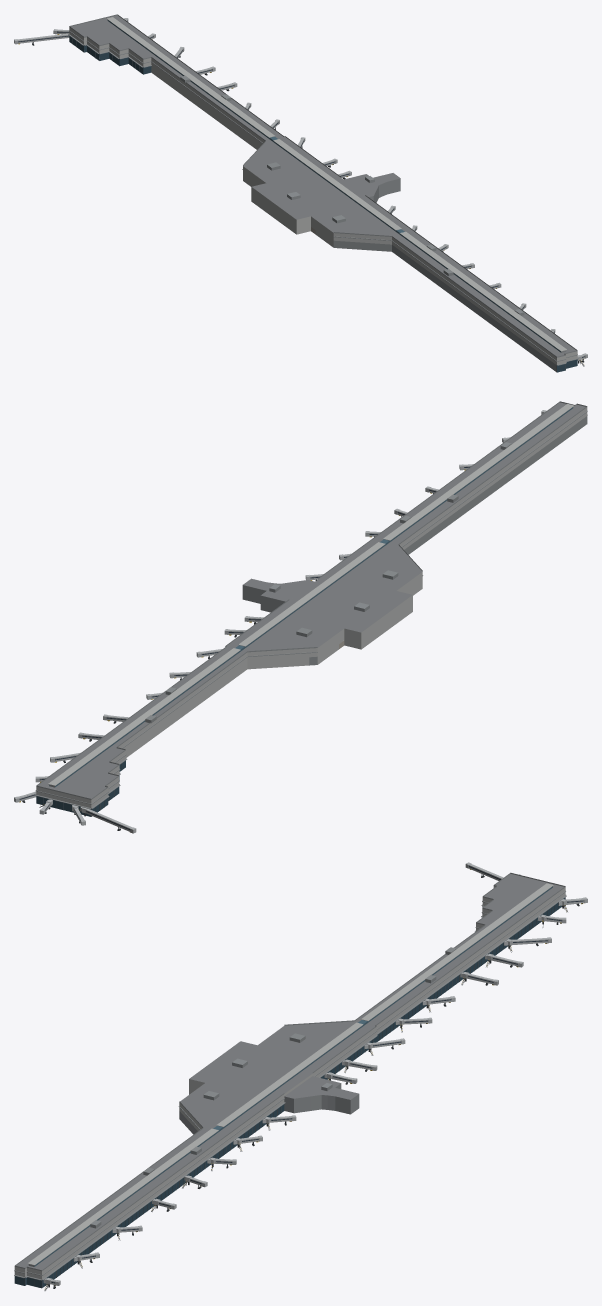
File: atl-concourse-t.glb
3 views of the same model, one above another, from view 1: azimuth 30°, elevation 25°; view 2: azimuth 150°, elevation 25°; view 3: azimuth 330°, elevation 25° (orthographic). The views are drawn at different scales.
Parts seen in each view (by area): view 1: lod1_lm_stone, lod0_bld_wall, lod2_bld_wall, lod0_lm_metal, lod2_lm_stone, lod0_lm_stone, lod0_bld_glass, lod0_bld_roof; view 2: lod1_lm_stone, lod2_bld_wall, lod0_bld_wall, lod0_lm_metal, lod2_lm_stone, lod0_lm_stone, lod0_bld_roof; view 3: lod1_lm_stone, lod2_bld_wall, lod0_lm_metal, lod0_bld_glass, lod2_lm_stone, lod0_lm_stone, lod0_bld_roof, lod0_bld_wall, lod0_lm_glass.
Part boxes in pixels (x1,y1,x2,y2): lod1_lm_stone: (14, 14, 587, 365); lod0_bld_wall: (69, 27, 577, 371); lod2_bld_wall: (84, 37, 577, 363); lod0_lm_metal: (16, 19, 587, 372); lod2_lm_stone: (18, 19, 584, 359); lod0_lm_stone: (69, 15, 579, 363); lod0_bld_glass: (69, 36, 577, 372); lod0_bld_roof: (343, 173, 400, 196); lod1_lm_stone: (14, 401, 587, 833); lod2_bld_wall: (36, 572, 422, 807); lod0_bld_wall: (36, 407, 587, 807); lod0_lm_metal: (15, 405, 587, 833); lod2_lm_stone: (17, 437, 510, 831); lod0_lm_stone: (36, 401, 586, 814); lod0_bld_roof: (243, 578, 314, 601); lod1_lm_stone: (14, 862, 587, 1288); lod2_bld_wall: (15, 887, 565, 1279); lod0_lm_metal: (14, 863, 584, 1290); lod0_bld_glass: (14, 898, 565, 1288); lod2_lm_stone: (50, 864, 584, 1284); lod0_lm_stone: (15, 886, 563, 1287); lod0_bld_roof: (285, 1076, 358, 1099); lod0_bld_wall: (14, 886, 495, 1279); lod0_lm_glass: (51, 866, 583, 1283).
Size of the model in its own units: 141 by 16.73 by 807.
